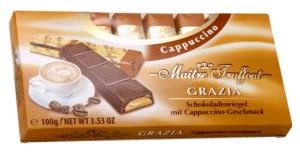Chocolate: (7, 8, 297, 142)
